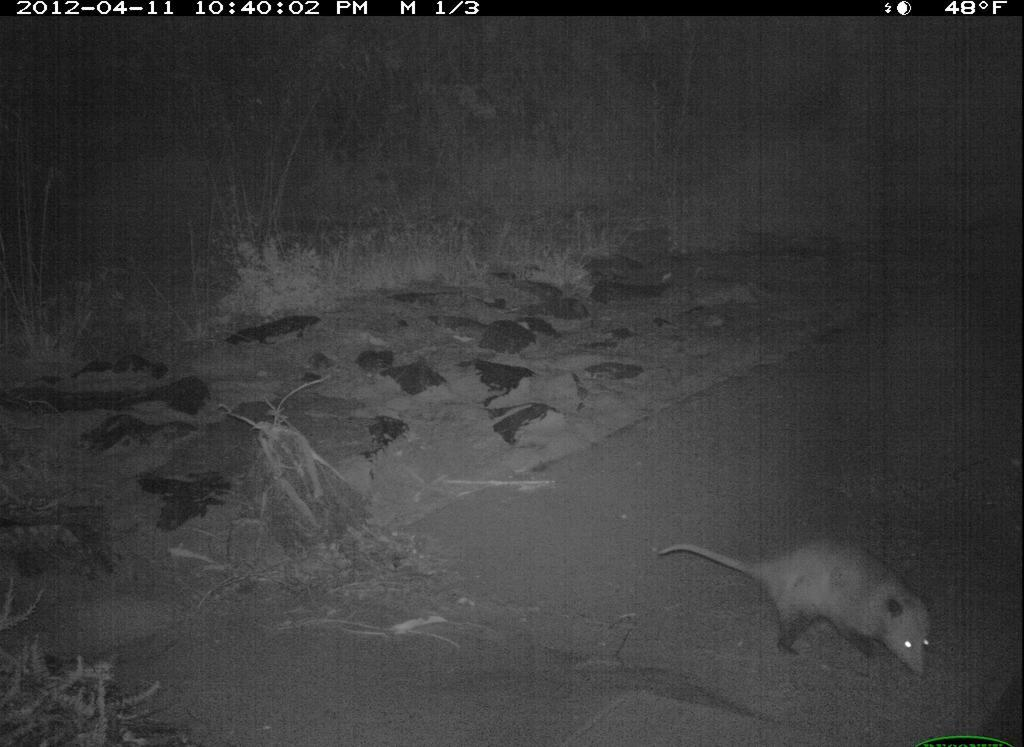opossum: (642, 525, 959, 696)
